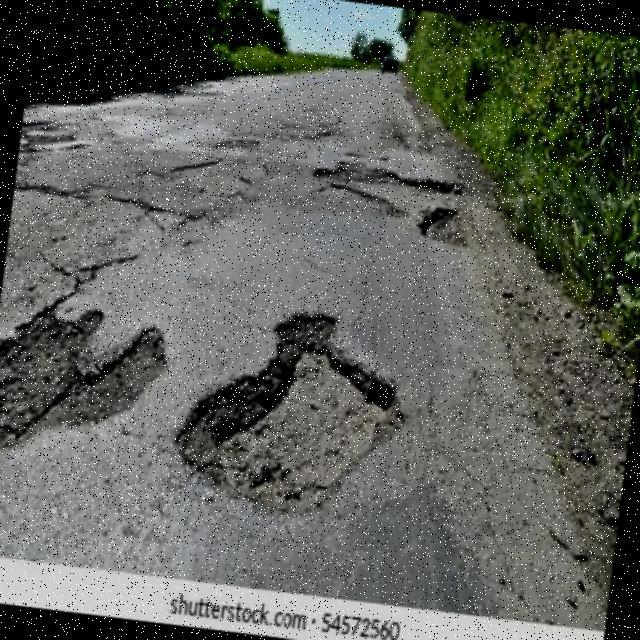Pothole: (174, 314, 405, 514), (0, 311, 164, 453), (310, 162, 463, 201), (417, 205, 459, 248)
